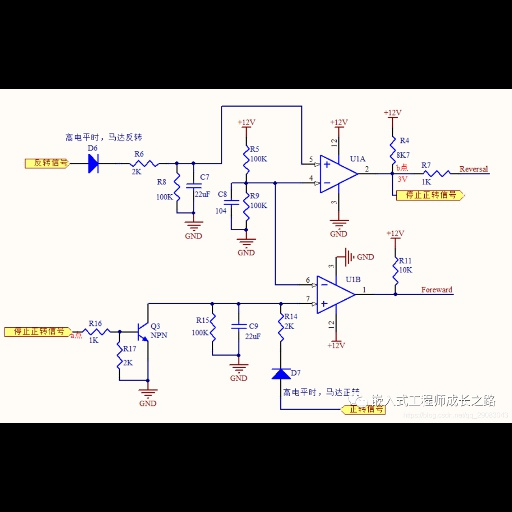amplifier: (314, 273, 356, 316), (318, 153, 359, 195)
capacitor: (184, 179, 207, 190), (229, 320, 247, 332), (222, 197, 241, 207)
firstdiode: (82, 153, 105, 176), (266, 365, 291, 382)
gnd: (234, 237, 260, 249), (226, 362, 252, 374), (343, 246, 356, 270), (327, 218, 352, 230), (137, 388, 159, 400), (184, 220, 205, 232)
secondresistance: (125, 157, 164, 169), (171, 168, 182, 208), (238, 142, 251, 175), (274, 309, 285, 348), (208, 312, 220, 344), (417, 168, 452, 178), (389, 253, 399, 287), (241, 189, 251, 222), (114, 340, 124, 372), (83, 326, 112, 337), (387, 132, 396, 167)
